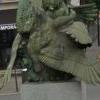Statue: (9, 4, 98, 83)
